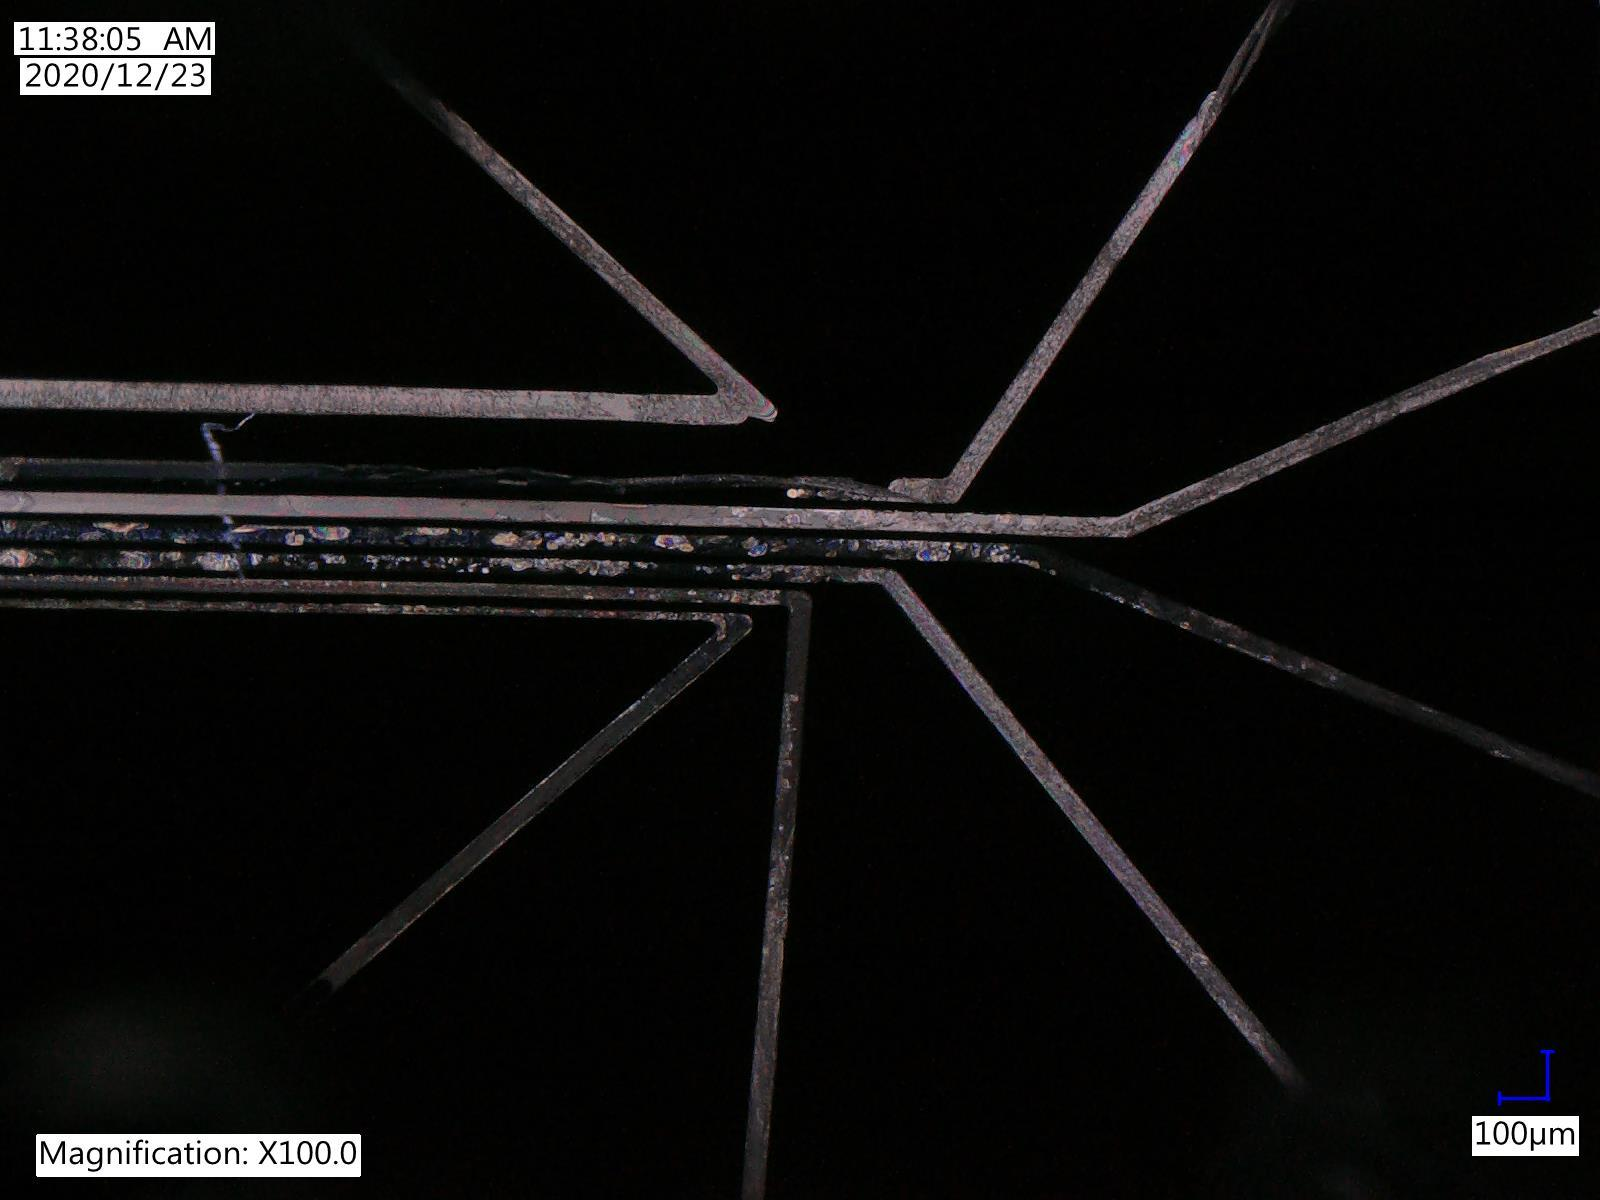sediment: (3, 381, 771, 422), (892, 476, 959, 503), (194, 550, 239, 574), (913, 539, 950, 563)
